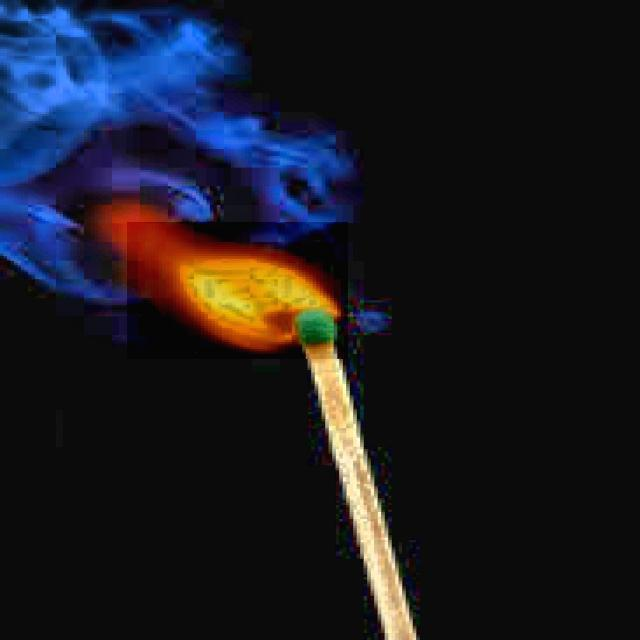Fire: (92, 196, 338, 358)
